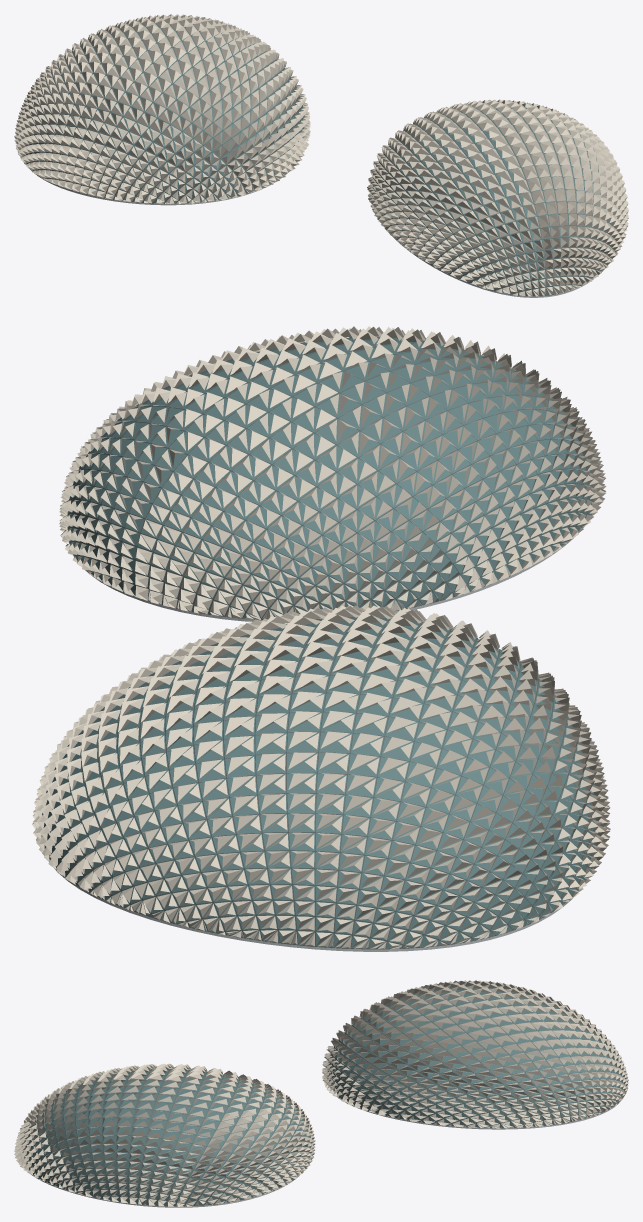
File: sg-esplanade-domes.glb
The picture shows the model from 3 angles, top to bottom: view 1: azimuth 30°, elevation 25°; view 2: azimuth 150°, elevation 25°; view 3: azimuth 270°, elevation 25°; orthographic projection. The views are drawn at different scales.
Parts seen in each view (by area): view 1: Theatre_Folded_Aluminium_Sunshades, Concert_Hall_Folded_Aluminium_Sunshades, Theatre_Dome_Glazing, Concert_Hall_Dome_Glazing, Theatre_Dome_Steel_Grid, Concert_Hall_Dome_Steel_Grid, Theatre_Dome_Eave; view 2: Theatre_Folded_Aluminium_Sunshades, Theatre_Dome_Glazing, Concert_Hall_Folded_Aluminium_Sunshades, Concert_Hall_Dome_Glazing, Theatre_Dome_Steel_Grid, Concert_Hall_Dome_Steel_Grid, Theatre_Dome_Eave, Concert_Hall_Dome_Eave; view 3: Theatre_Folded_Aluminium_Sunshades, Concert_Hall_Folded_Aluminium_Sunshades, Concert_Hall_Dome_Glazing, Theatre_Dome_Glazing, Concert_Hall_Dome_Steel_Grid, Theatre_Dome_Steel_Grid, Theatre_Dome_Eave, Concert_Hall_Dome_Eave.
Part boxes in pixels (box(x1,y1,x2,y2)): Theatre_Folded_Aluminium_Sunshades: box(14, 14, 310, 204); Concert_Hall_Folded_Aluminium_Sunshades: box(367, 99, 628, 296); Theatre_Dome_Glazing: box(22, 21, 304, 203); Concert_Hall_Dome_Glazing: box(372, 106, 615, 295); Theatre_Dome_Steel_Grid: box(27, 27, 302, 203); Concert_Hall_Dome_Steel_Grid: box(375, 113, 613, 296); Theatre_Dome_Eave: box(21, 157, 297, 205); Theatre_Folded_Aluminium_Sunshades: box(32, 605, 610, 949); Theatre_Dome_Glazing: box(41, 617, 600, 948); Concert_Hall_Folded_Aluminium_Sunshades: box(59, 326, 606, 619); Concert_Hall_Dome_Glazing: box(68, 337, 595, 618); Theatre_Dome_Steel_Grid: box(41, 622, 595, 949); Concert_Hall_Dome_Steel_Grid: box(67, 340, 591, 619); Theatre_Dome_Eave: box(54, 858, 596, 951); Concert_Hall_Dome_Eave: box(69, 514, 591, 621); Theatre_Folded_Aluminium_Sunshades: box(322, 980, 628, 1128); Concert_Hall_Folded_Aluminium_Sunshades: box(14, 1063, 315, 1206); Concert_Hall_Dome_Glazing: box(22, 1069, 311, 1205); Theatre_Dome_Glazing: box(327, 986, 624, 1127); Concert_Hall_Dome_Steel_Grid: box(31, 1070, 310, 1206); Theatre_Dome_Steel_Grid: box(330, 1002, 625, 1128); Theatre_Dome_Eave: box(337, 1097, 620, 1129); Concert_Hall_Dome_Eave: box(31, 1158, 310, 1207).
Size of the model in its own units: 124 by 29.88 by 173.
